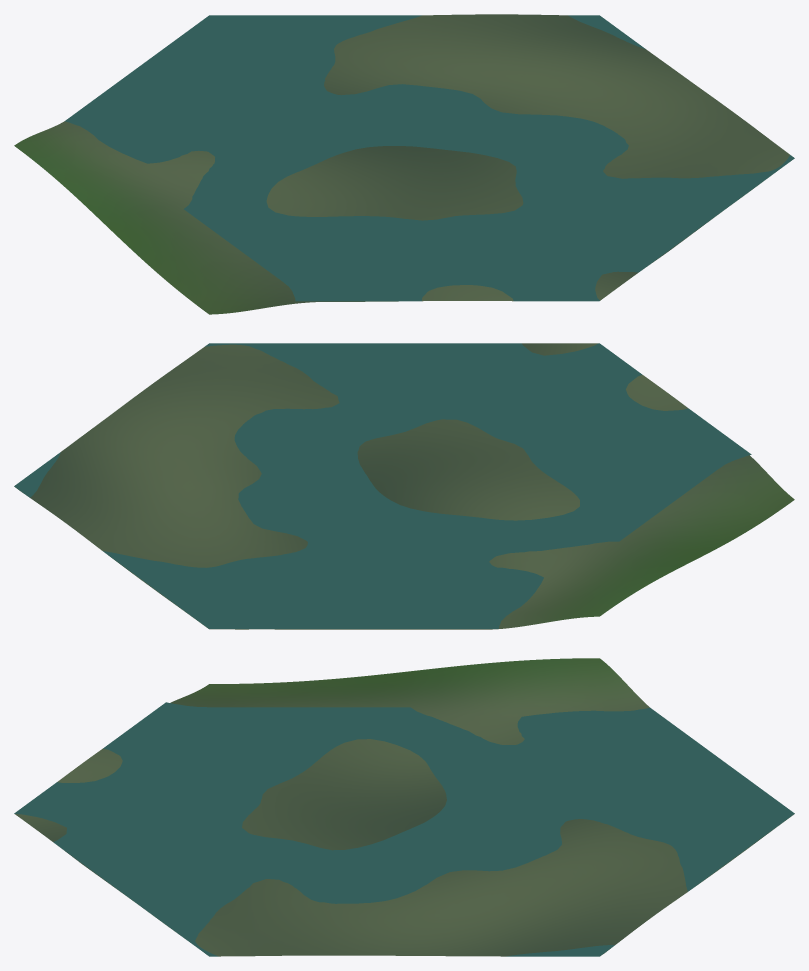
The picture shows the model from 3 angles, top to bottom: view 1: azimuth 30°, elevation 25°; view 2: azimuth 150°, elevation 25°; view 3: azimuth 270°, elevation 25°; orthographic projection.
Visible parts, largest first — view 1: Lâmina estática PT_+3_10, PT_+3_10; view 2: Lâmina estática PT_+3_10, PT_+3_10; view 3: Lâmina estática PT_+3_10, PT_+3_10.
Boxes of the visible parts, left/top/right/bottom form: Lâmina estática PT_+3_10: left=65, top=15, right=794, bottom=301; PT_+3_10: left=14, top=14, right=789, bottom=314; Lâmina estática PT_+3_10: left=14, top=343, right=751, bottom=628; PT_+3_10: left=15, top=343, right=794, bottom=629; Lâmina estática PT_+3_10: left=14, top=702, right=794, bottom=956; PT_+3_10: left=15, top=658, right=793, bottom=956.
Bounding box in the file's own units: 4330 × 183 × 5000.
